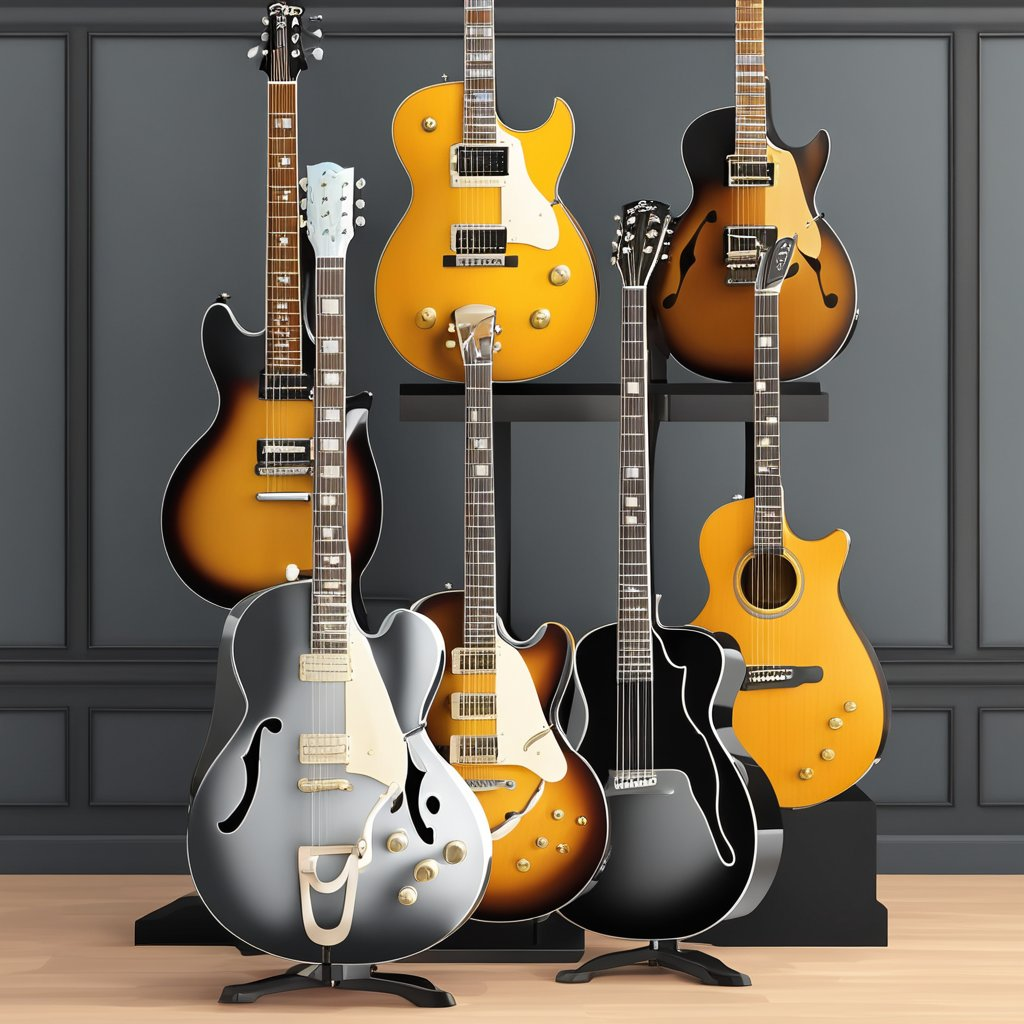guitar: (166, 0, 497, 994), (555, 187, 781, 988), (160, 0, 384, 616), (683, 151, 889, 813), (407, 312, 610, 924), (584, 200, 727, 955), (373, 0, 600, 386), (657, 0, 859, 385)
